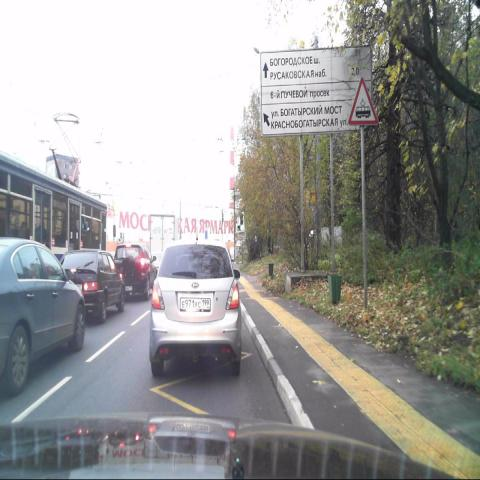1_5: (348, 78, 377, 126)
